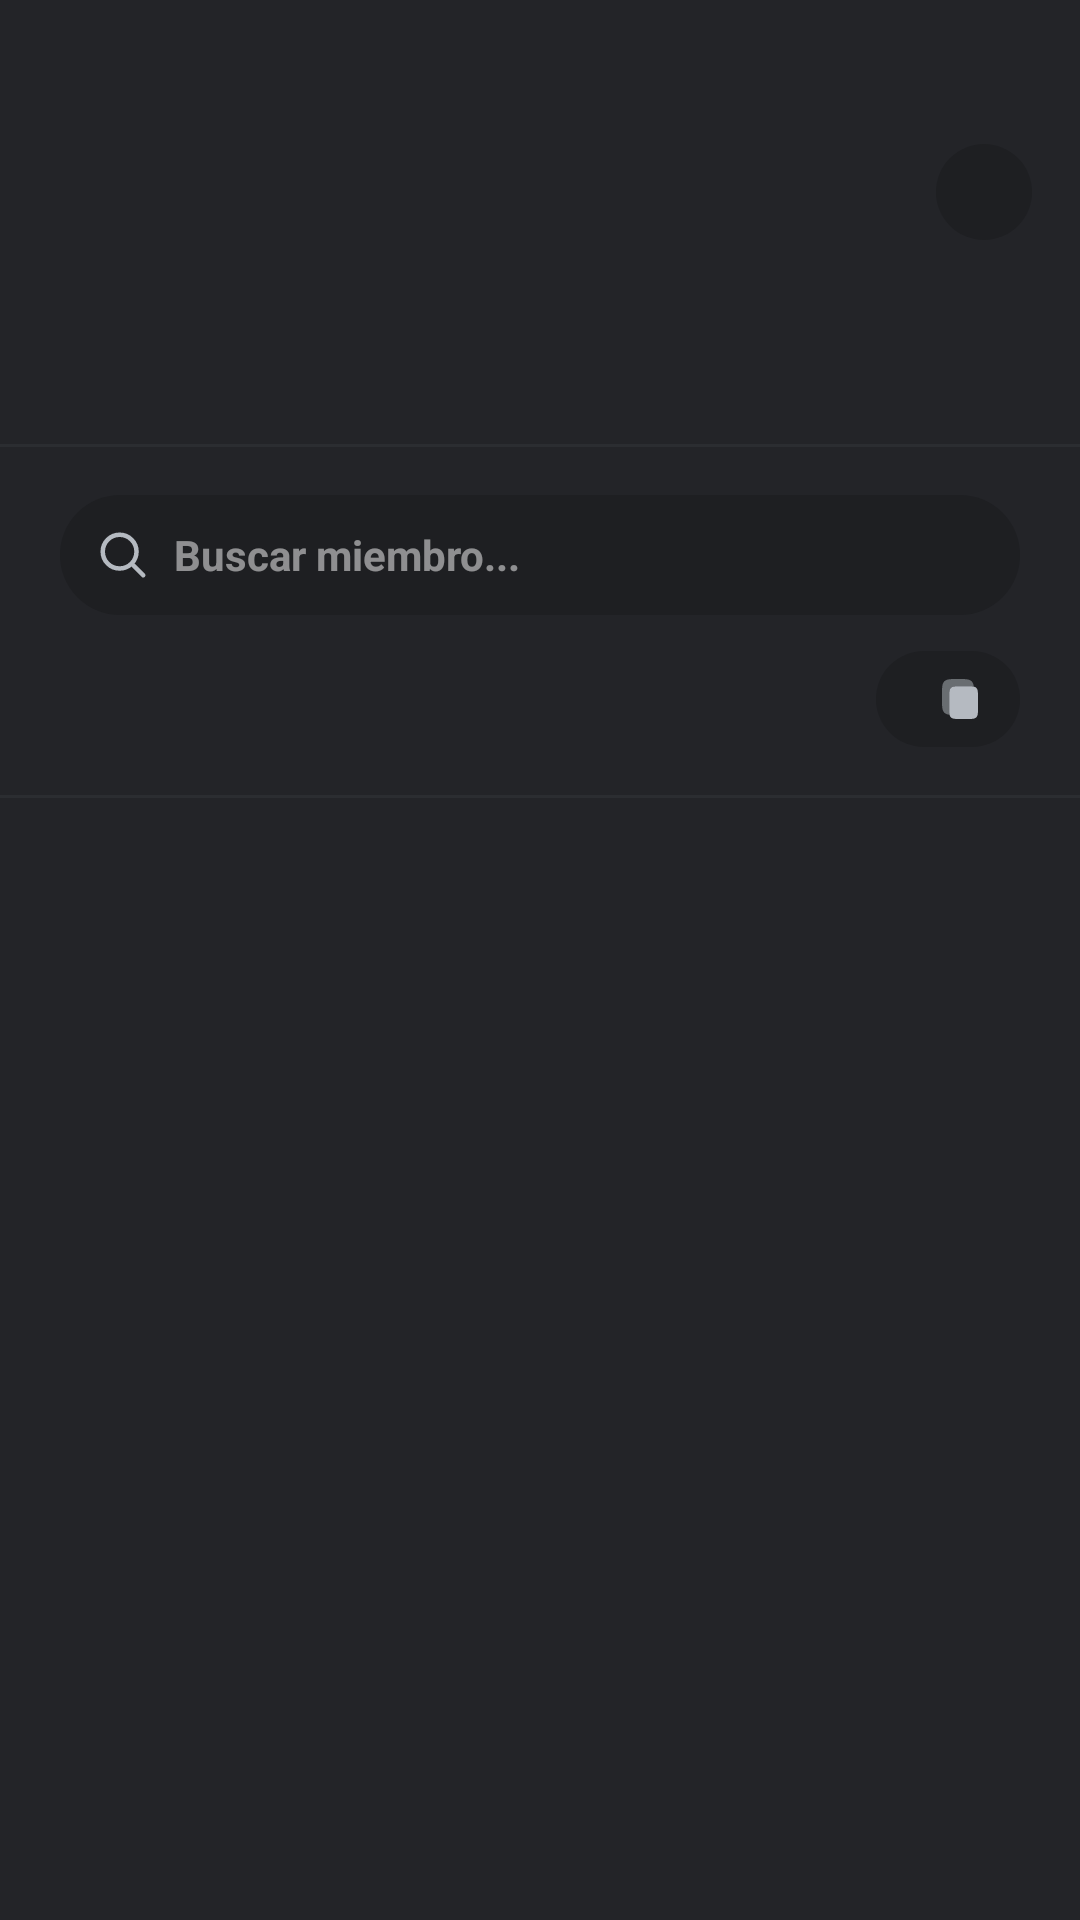

Where icons sit on this 1080 x 1920 app screen, as bbox=(x1, y1, x2, y2):
Copiar código: bbox=(942, 679, 978, 719)
Search icon: bbox=(100, 532, 146, 578)
